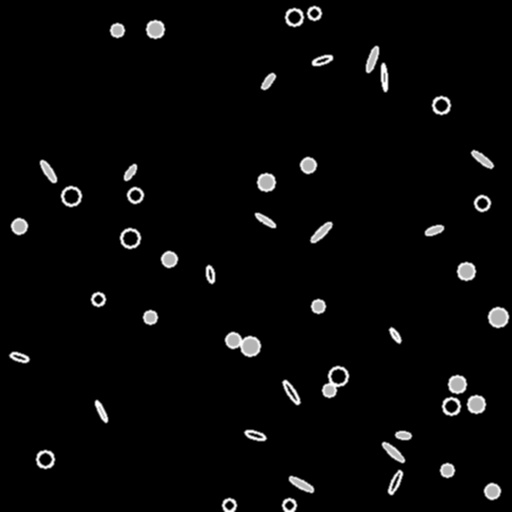pseudomonas: (381, 441, 405, 463), (281, 379, 301, 405), (287, 475, 315, 493), (310, 221, 332, 243), (470, 149, 494, 169), (39, 159, 57, 183), (387, 470, 403, 494), (365, 46, 379, 72), (254, 212, 276, 228), (311, 53, 333, 67), (94, 400, 108, 422), (260, 72, 276, 90), (244, 429, 266, 441), (123, 163, 137, 181), (9, 351, 29, 363), (424, 224, 444, 236), (388, 327, 402, 343), (380, 63, 388, 91), (205, 266, 215, 282), (395, 431, 411, 439)
synechocystis: (329, 367, 347, 385), (121, 229, 139, 247), (489, 308, 507, 326), (241, 337, 259, 355), (62, 187, 80, 205), (449, 376, 465, 392), (147, 21, 163, 37), (286, 9, 302, 25), (37, 451, 53, 467), (258, 174, 274, 190), (443, 398, 459, 414), (458, 263, 474, 279), (468, 396, 484, 412), (433, 97, 449, 113), (162, 252, 176, 266), (12, 219, 26, 233), (475, 196, 489, 210), (485, 484, 499, 498), (226, 333, 240, 347), (301, 158, 315, 172), (128, 188, 142, 202), (144, 311, 156, 323), (308, 7, 320, 19), (323, 384, 335, 396), (92, 293, 104, 305), (283, 499, 295, 511), (312, 300, 324, 312), (111, 24, 123, 36), (223, 499, 235, 511), (441, 464, 453, 476)
